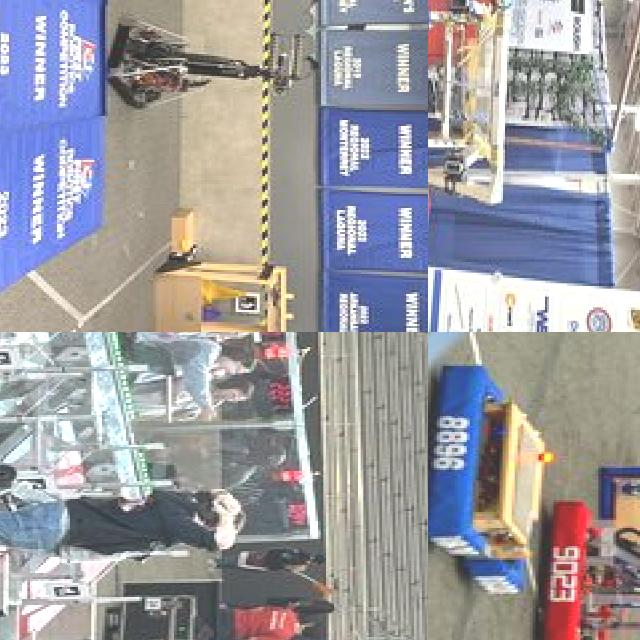FRC-Robots: (428, 0, 592, 244), (428, 341, 578, 593), (106, 2, 328, 118), (0, 354, 82, 604), (526, 509, 640, 640), (581, 437, 640, 609)
